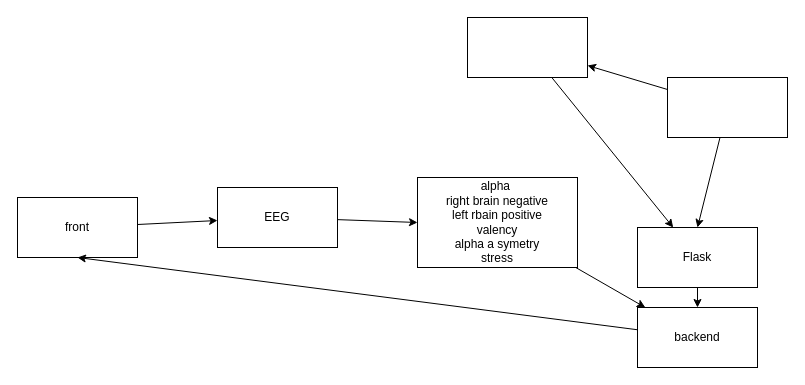
This 805x385 diagram has some shape labels left out. The centre of each missing label's shape, as x and y in pixels:
"spotify API" goes at [727,107].
"user data" goes at [527,47].
